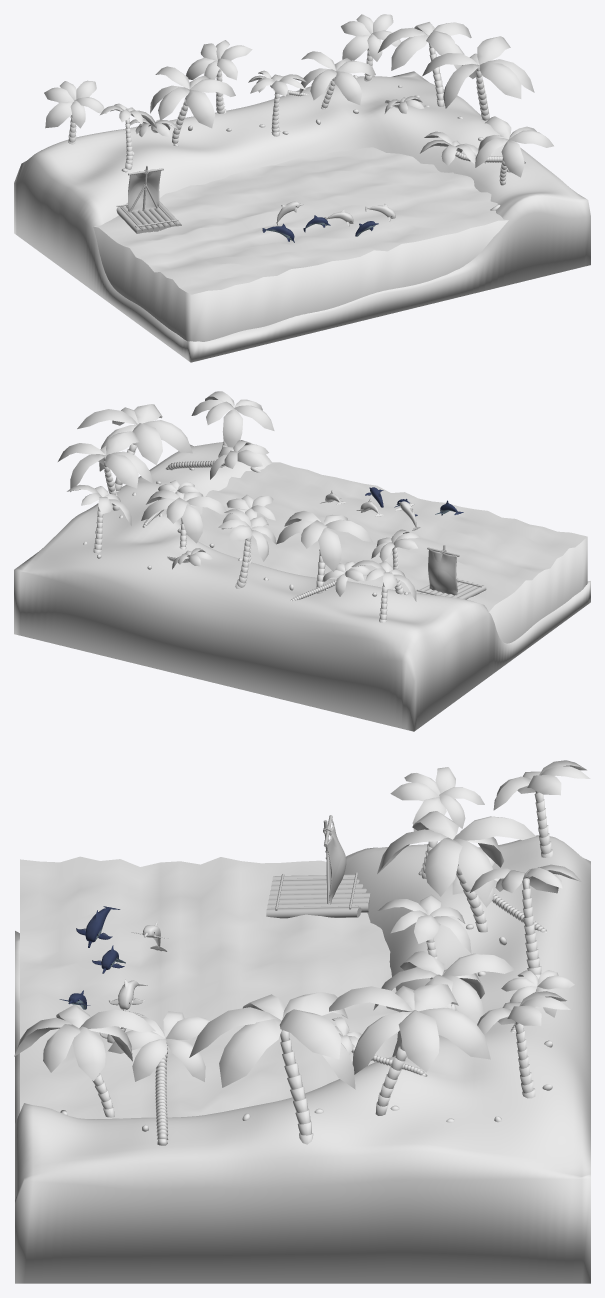
Rendered from isola2.fbx.
The picture shows the model from 3 angles, top to bottom: view 1: azimuth 30°, elevation 25°; view 2: azimuth 150°, elevation 25°; view 3: azimuth 270°, elevation 25°; orthographic projection. The views are drawn at different scales.
Visible parts, largest first — view 1: Plane, acqua, Cylinder.012, Cylinder.010, Cylinder.007, Cylinder.015, Cylinder.003, Cylinder.005, Cylinder.013, Cylinder.004, Cylinder.001, Cylinder.006 (+3 smaller); view 2: Plane, acqua, Cylinder.012, Cylinder.007, Cylinder.010, Cylinder.003, Cylinder.005, Cylinder.015, Cylinder.001, Cylinder.006, Cylinder.004, Cylinder.013 (+5 smaller); view 3: Plane, acqua, Cylinder.012, Cylinder.007, Cylinder.010, Cylinder.005, Cylinder.015, Cylinder.006, Cylinder.003, Cylinder.016, Cylinder.001, Cylinder.004 (+5 smaller).
Boxes of the visible parts, x1,y1,x2,y2 form: Plane: (14,71,590,362); acqua: (92,147,508,341); Cylinder.012: (422,36,534,121); Cylinder.010: (150,66,235,143); Cylinder.007: (378,22,471,106); Cylinder.015: (116,165,181,233); Cylinder.003: (299,51,375,109); Cylinder.005: (475,116,553,185); Cylinder.013: (44,80,106,144); Cylinder.004: (341,14,401,81); Cylinder.001: (186,40,252,113); Cylinder.006: (420,131,525,165); Plane: (14,442,590,731); acqua: (198,462,587,643); Cylinder.012: (77,404,192,492); Cylinder.007: (58,431,153,510); Cylinder.010: (276,511,372,593); Cylinder.003: (141,489,227,549); Cylinder.005: (191,391,274,467); Cylinder.015: (416,545,486,599); Cylinder.001: (218,509,276,588); Cylinder.006: (165,440,268,479); Cylinder.004: (67,485,131,552); Cylinder.013: (351,560,416,622); Plane: (15,835,590,1283); acqua: (20,856,398,1118); Cylinder.012: (189,992,355,1144); Cylinder.007: (329,983,490,1115); Cylinder.010: (377,811,535,932); Cylinder.005: (14,1004,155,1117); Cylinder.015: (266,815,370,918); Cylinder.006: (108,1011,209,1145); Cylinder.003: (373,951,514,1024); Cylinder.016: (390,767,484,878); Cylinder.001: (470,864,581,978); Cylinder.004: (477,991,570,1098).
Size of the model in its own units: 4013 by 1504 by 2970.
